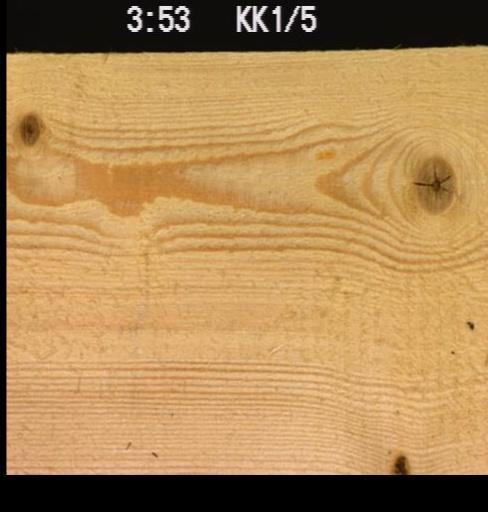edge_knot: (389, 451, 411, 473)
sound_knot: (409, 152, 457, 214), (15, 107, 43, 146)
